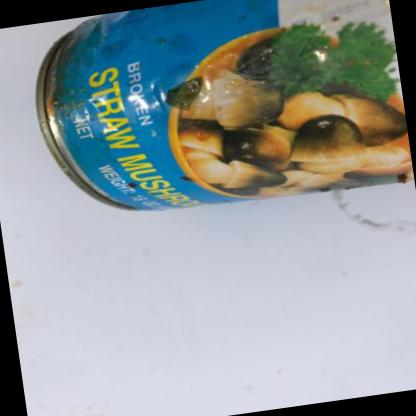Metal: (35, 0, 413, 209)
